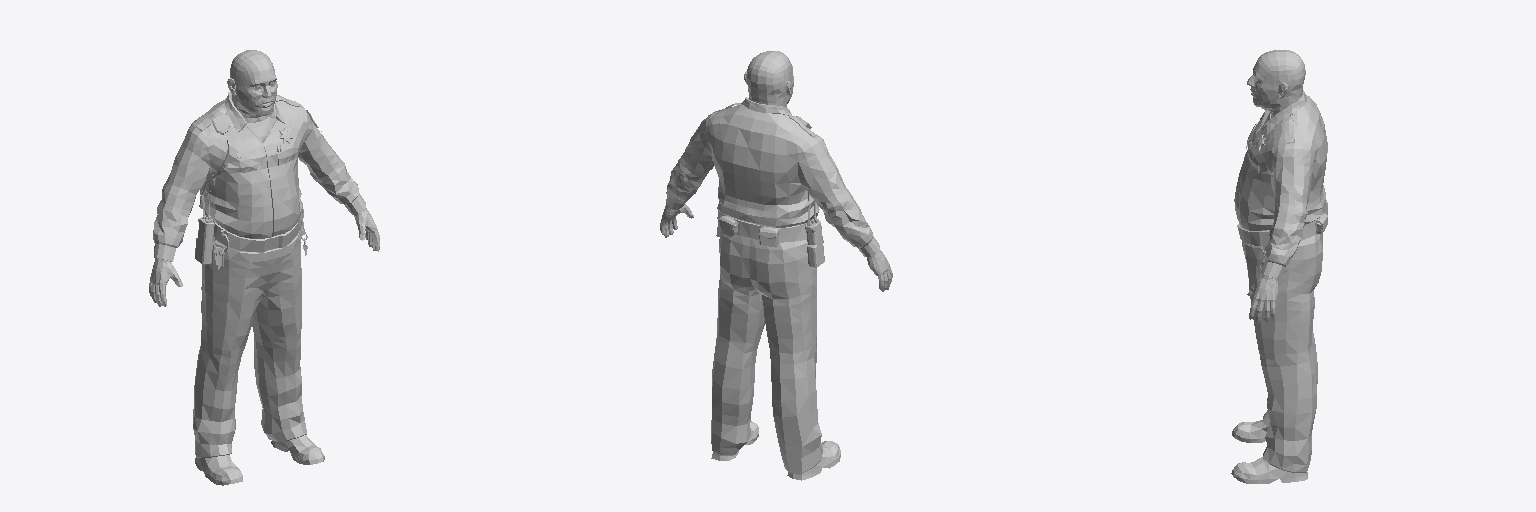
The model's file is Prison guard Geary.obj.
3 renders of one model, left to right at view 1: azimuth 30°, elevation 25°; view 2: azimuth 150°, elevation 25°; view 3: azimuth 270°, elevation 25°, orthographic.
Parts seen in each view (by area): view 1: Mesh_0054_Tex_0054_0_, Mesh_0044_Tex_0044_0_; view 2: Mesh_0054_Tex_0054_0_, Mesh_0044_Tex_0044_0_; view 3: Mesh_0054_Tex_0054_0_, Mesh_0044_Tex_0044_0_.
Part boxes in pixels (bbox=[...]): Mesh_0054_Tex_0054_0_: bbox=[149, 91, 379, 485]; Mesh_0044_Tex_0044_0_: bbox=[227, 50, 277, 122]; Mesh_0054_Tex_0054_0_: bbox=[660, 97, 892, 480]; Mesh_0044_Tex_0044_0_: bbox=[744, 51, 793, 107]; Mesh_0054_Tex_0054_0_: bbox=[1231, 90, 1327, 483]; Mesh_0044_Tex_0044_0_: bbox=[1247, 50, 1305, 117].
Size of the model in its own units: 1.06 by 1.83 by 0.3972.